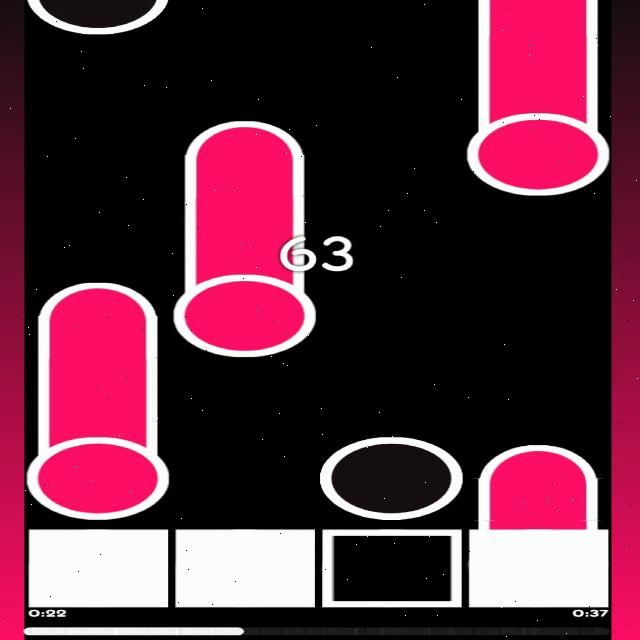end_hold: (170, 109, 319, 204), (28, 268, 169, 364), (469, 434, 604, 522)
note: (317, 433, 466, 522), (29, 0, 172, 43)
start_hold: (170, 266, 324, 361), (466, 106, 611, 203), (24, 438, 174, 522)
